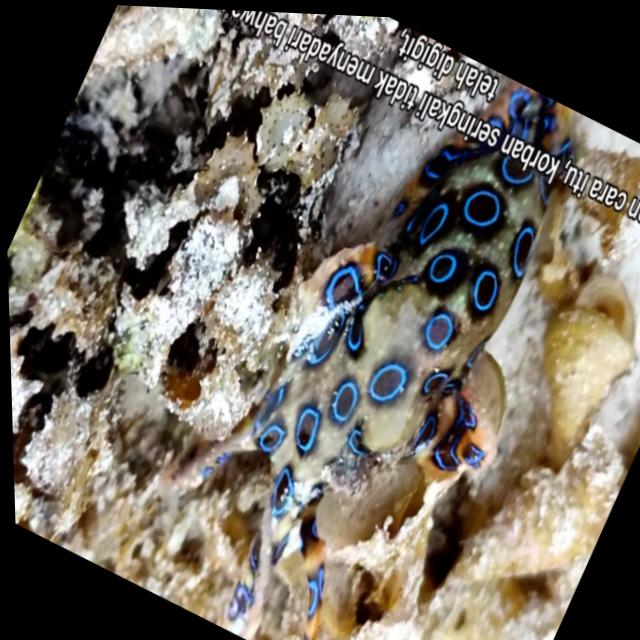blue_ringed_octopus: (127, 7, 640, 640)
